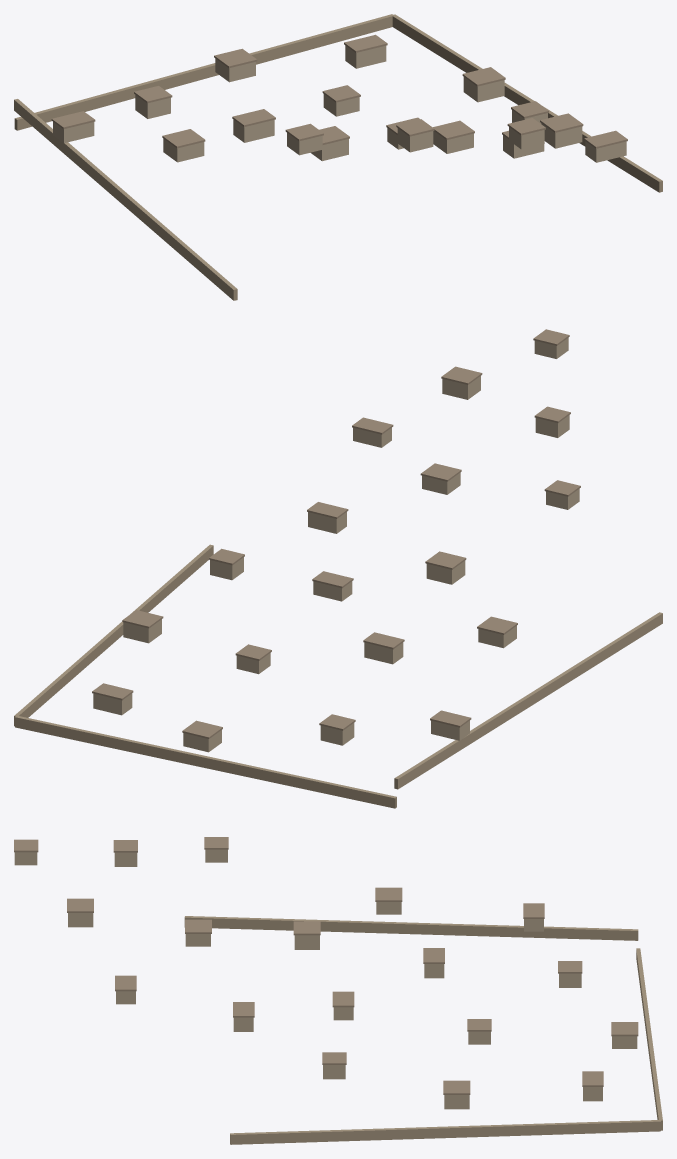
The model's file is Castalla_Village_1244_v1.glb.
The picture shows the model from 3 angles, top to bottom: view 1: azimuth 30°, elevation 25°; view 2: azimuth 150°, elevation 25°; view 3: azimuth 270°, elevation 25°; orthographic projection. The views are drawn at different scales.
Visible parts, largest first — view 1: world; view 2: world; view 3: world.
Boxes of the visible parts, <box> form: world: <box>14,14,662,300</box>; world: <box>14,329,662,808</box>; world: <box>14,837,662,1144</box>.
Bounding box in the file's own units: 105 × 46.11 × 143.
